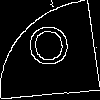O: (25, 24, 74, 76)
